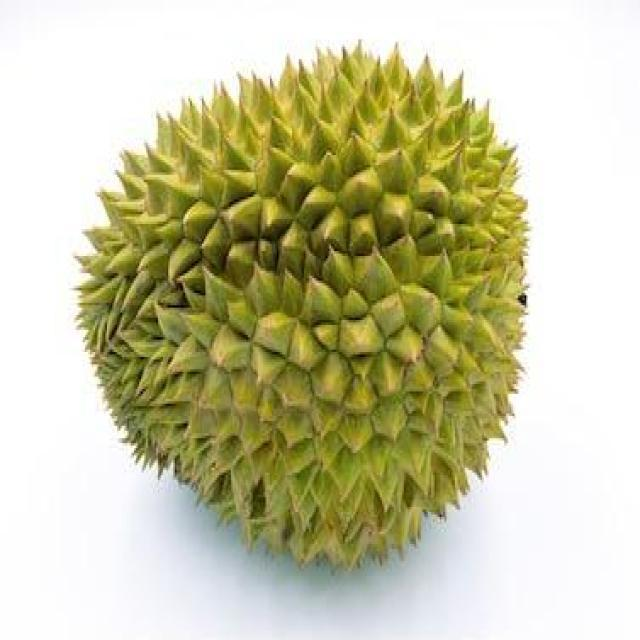immature: (74, 35, 530, 575)
